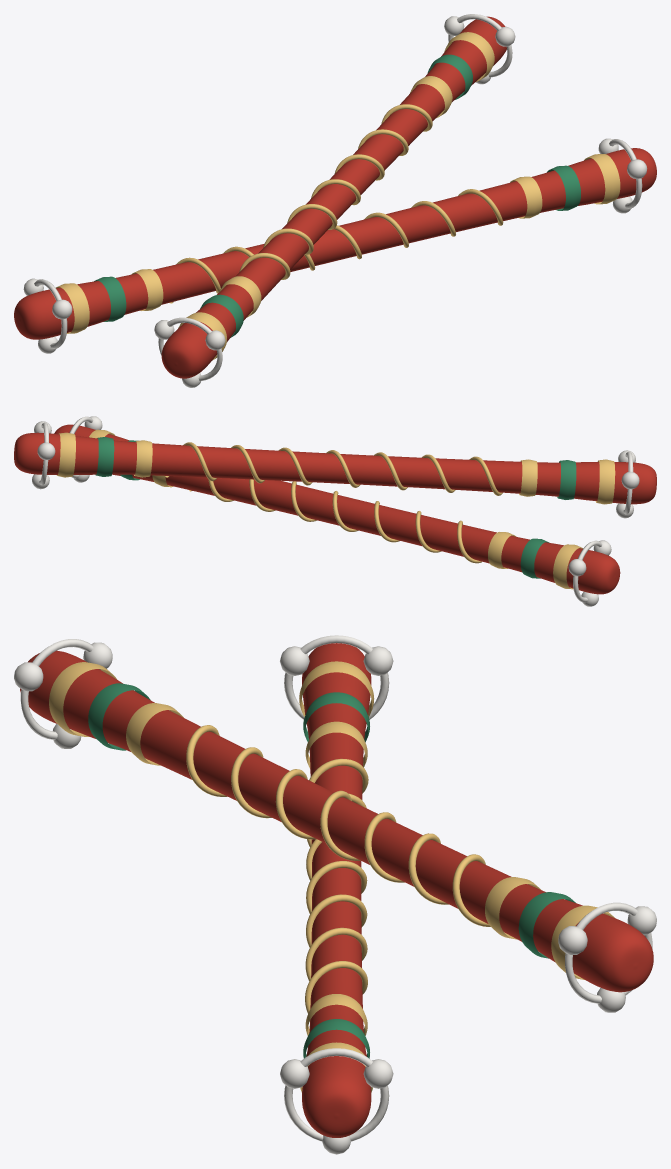
The model's file is divi-dandiya-2.glb.
3 renders of one model, top to bottom at view 1: azimuth 30°, elevation 25°; view 2: azimuth 150°, elevation 25°; view 3: azimuth 270°, elevation 25°, orthographic. The views are drawn at different scales.
Parts seen in each view (by area): view 1: Dandiya, Dandiya.001; view 2: Dandiya.001, Dandiya; view 3: Dandiya.001, Dandiya.
Boxes of the visible parts, <box> form: Dandiya: <box>14,138,656,353</box>; Dandiya.001: <box>154,14,515,387</box>; Dandiya.001: <box>14,421,656,518</box>; Dandiya: <box>54,416,620,606</box>; Dandiya.001: <box>14,639,656,1012</box>; Dandiya: <box>280,635,393,1154</box>.
Size of the model in its own units: 1 by 0.2175 by 0.599.
